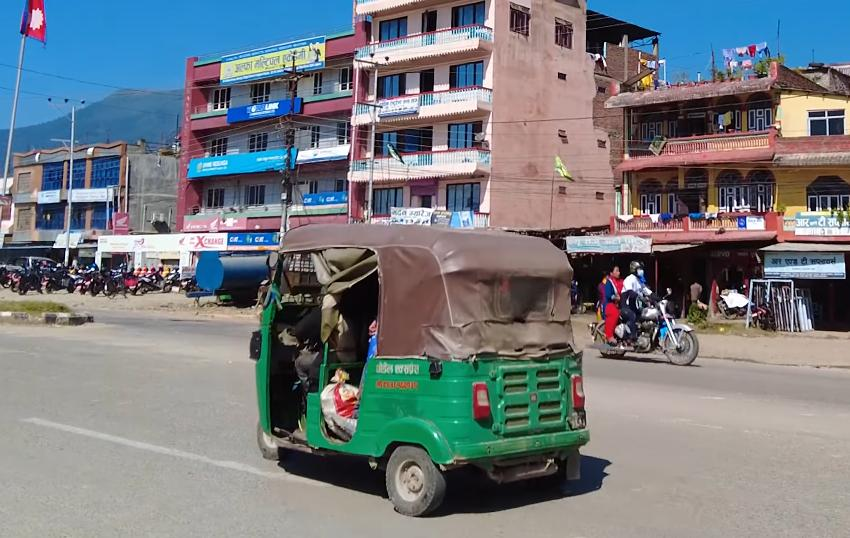auto_rickshaw: (248, 220, 595, 516)
bike: (589, 285, 702, 370)
